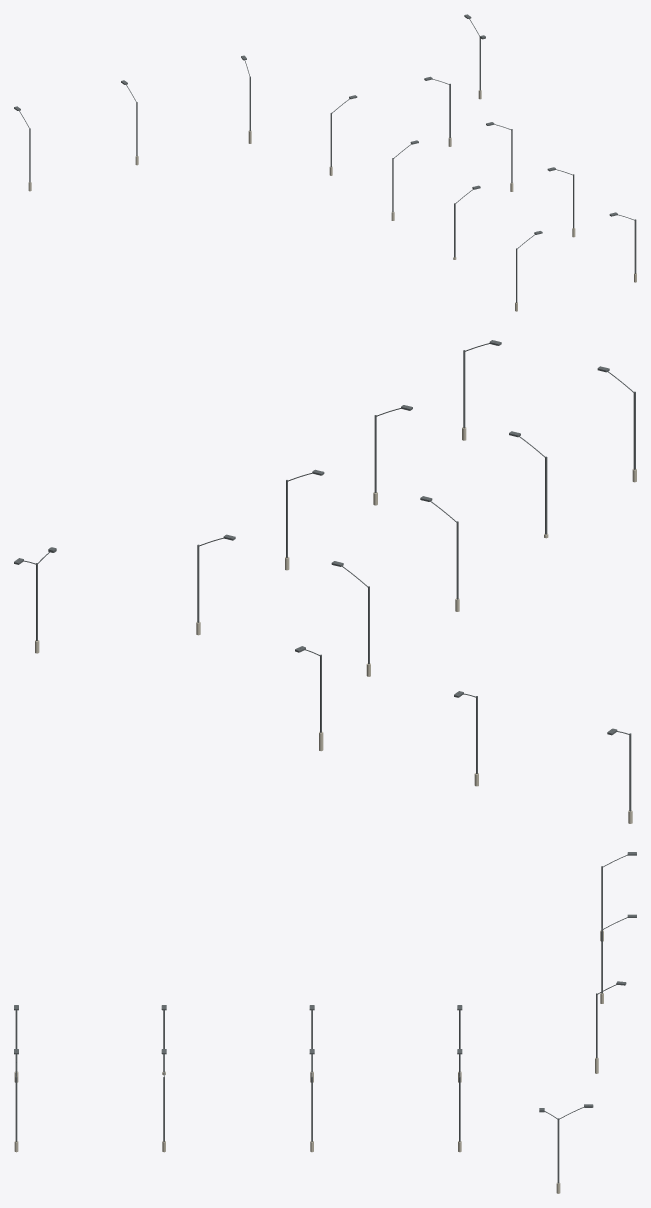
The picture shows the model from 3 angles, top to bottom: view 1: azimuth 30°, elevation 25°; view 2: azimuth 150°, elevation 25°; view 3: azimuth 270°, elevation 25°; orthographic projection. The views are drawn at different scales.
Parts seen in each view (by area): view 1: buildings_s_-5_1_Dark_Metal; view 2: buildings_s_-5_1_Dark_Metal, buildings_s_-5_1_Warm_Limestone; view 3: buildings_s_-5_1_Dark_Metal, buildings_s_-5_1_Warm_Limestone.
Boxes of the visible parts, x1,y1,x2,y2 form: buildings_s_-5_1_Dark_Metal: (14, 14, 636, 302); buildings_s_-5_1_Dark_Metal: (14, 340, 635, 811); buildings_s_-5_1_Warm_Limestone: (35, 427, 636, 823); buildings_s_-5_1_Dark_Metal: (14, 852, 636, 1183); buildings_s_-5_1_Warm_Limestone: (14, 930, 603, 1193).
Bounding box in the file's own units: 110 × 18.75 × 114.
